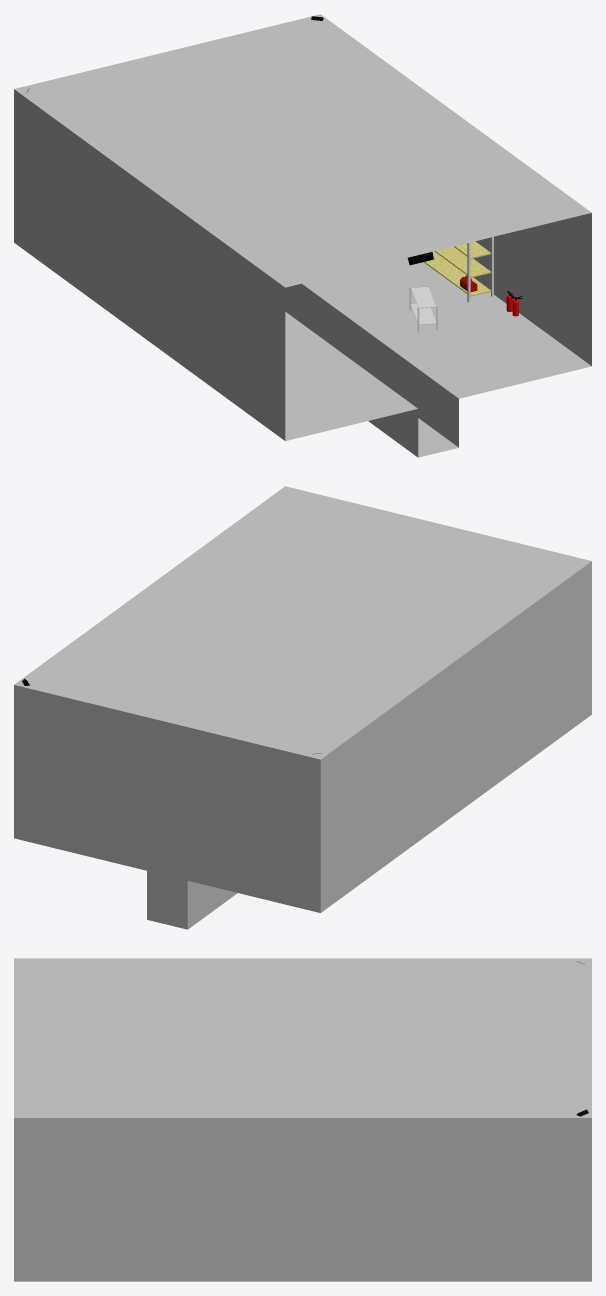
Rendered from garasi.fbx.
The picture shows the model from 3 angles, top to bottom: view 1: azimuth 30°, elevation 25°; view 2: azimuth 150°, elevation 25°; view 3: azimuth 270°, elevation 25°; orthographic projection. The views are drawn at different scales.
Parts seen in each view (by area): view 1: garasi, rak, meja jalan; view 2: garasi; view 3: garasi.
Boxes of the visible parts, left/top/right/bottom form: garasi: left=14, top=14, right=591, bottom=457; rak: left=415, top=237, right=494, bottom=303; meja jalan: left=409, top=285, right=437, bottom=332; garasi: left=14, top=486, right=591, bottom=929; garasi: left=14, top=958, right=591, bottom=1281.
Size of the model in its own units: 887 by 567 by 1359.
